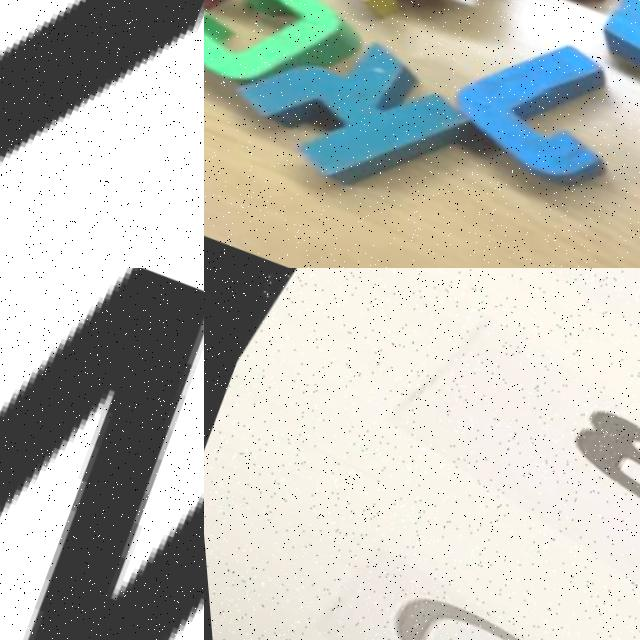0: (321, 541, 640, 640)
4: (581, 268, 640, 472)
8: (508, 365, 640, 591)
V: (557, 0, 640, 133)
W: (0, 268, 204, 640)
Z: (0, 0, 204, 268)
